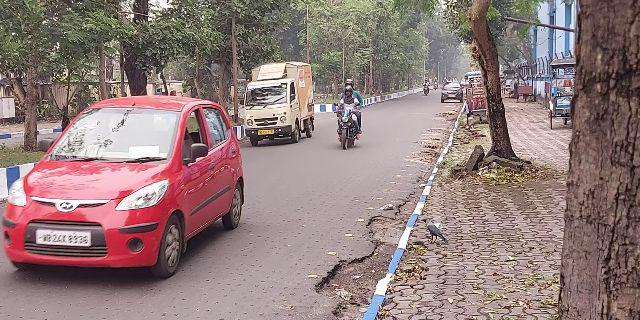Car: (1, 100, 252, 275), (440, 78, 461, 105)
Minitruck: (241, 58, 315, 143)
Motorbike: (337, 72, 363, 154)
Rickshaw: (545, 57, 574, 128), (457, 68, 490, 129)
